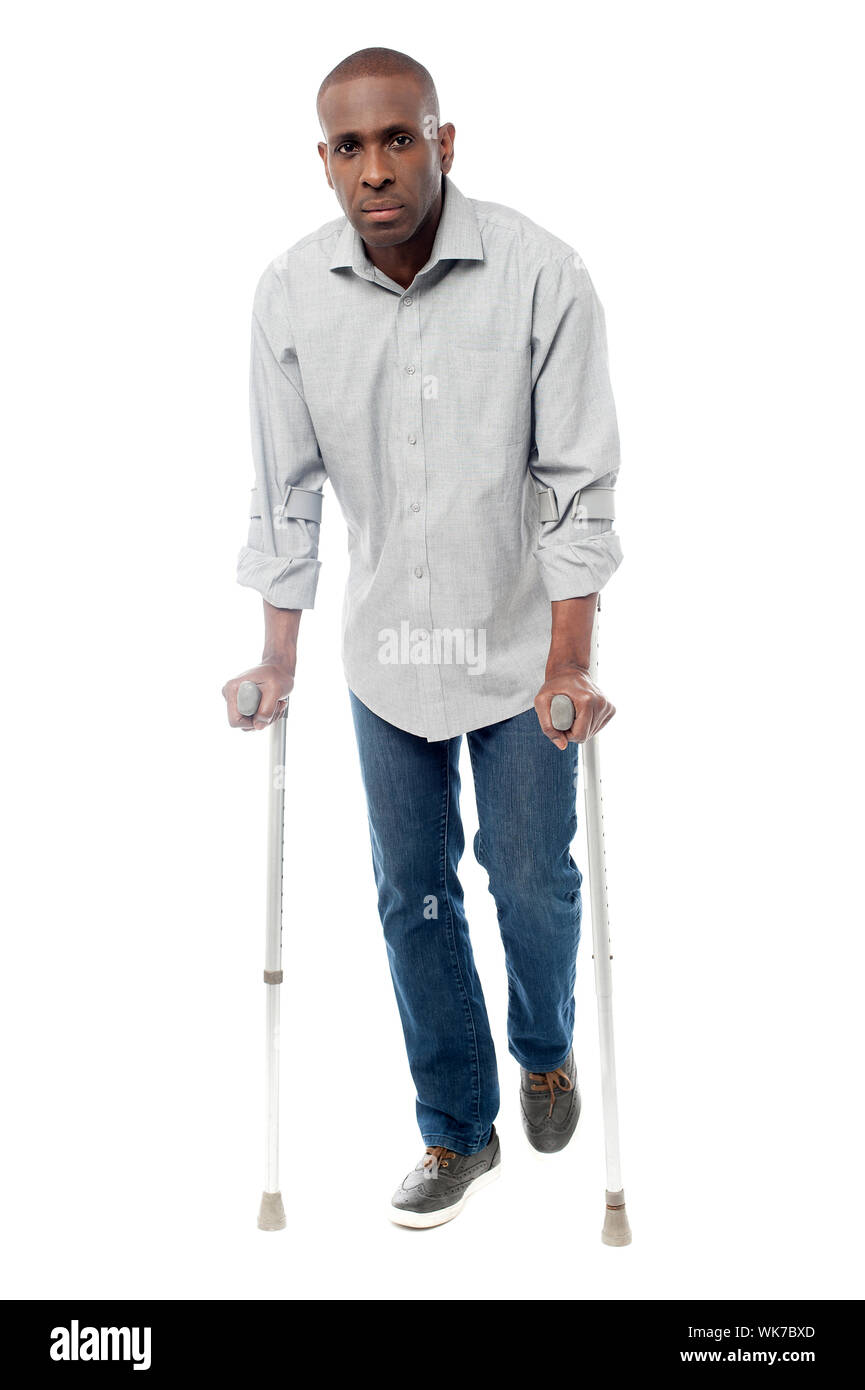crutches: (227, 47, 632, 1246)
